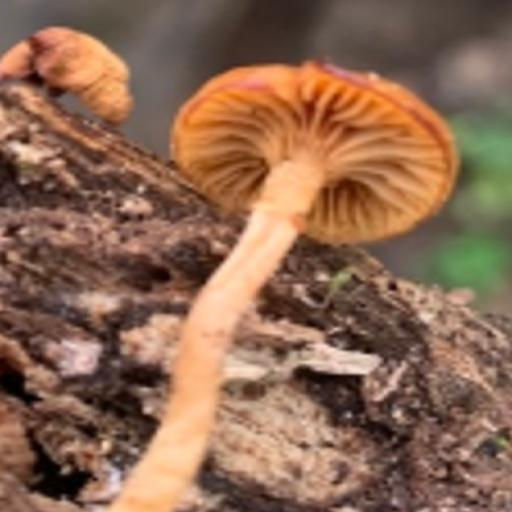mushroom: (148, 30, 466, 329)
